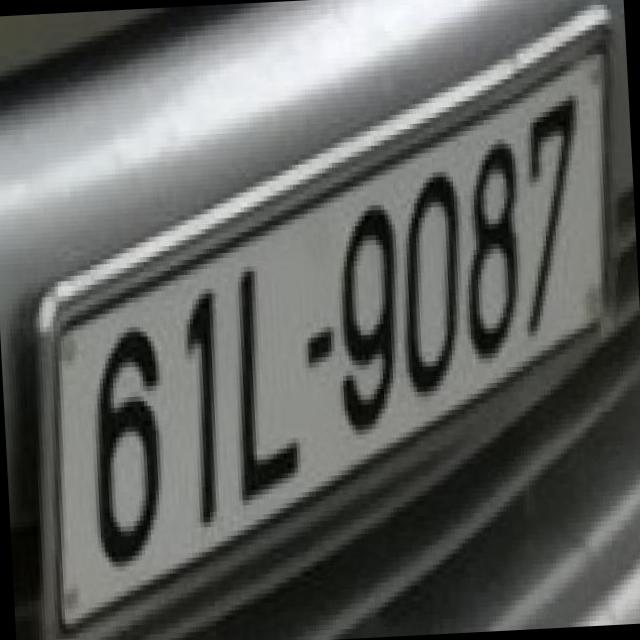0: (388, 152, 471, 398)
1: (154, 268, 241, 530)
6: (66, 311, 176, 568)
7: (504, 80, 594, 338)
8: (448, 123, 532, 364)
9: (320, 189, 410, 436)
L: (213, 249, 310, 506)
